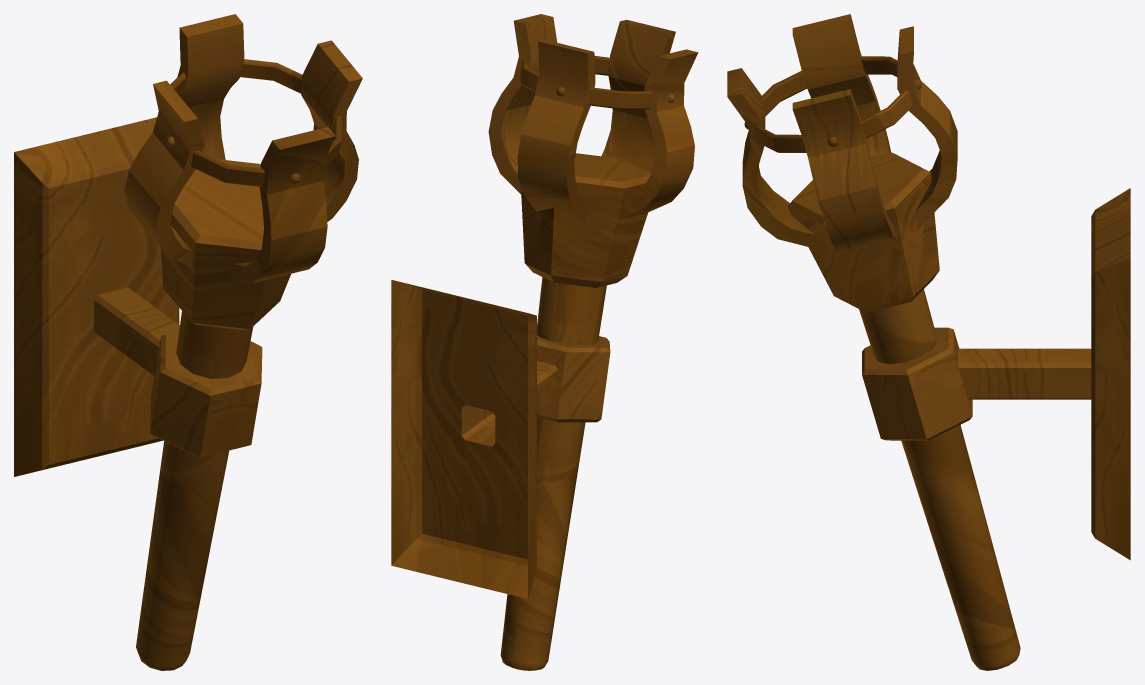
Rendered from Torch.fbx.
3 views of the same model, side by side, from view 1: azimuth 30°, elevation 25°; view 2: azimuth 150°, elevation 25°; view 3: azimuth 270°, elevation 25° (orthographic). The views are drawn at different scales.
Parts seen in each view (by area): view 1: Torch_low; view 2: Torch_low; view 3: Torch_low.
Part boxes in pixels (x1,y1,x2,y2): Torch_low: (14, 14, 362, 670); Torch_low: (391, 14, 698, 670); Torch_low: (727, 14, 1130, 670).
Bounding box in the file's own units: 2.73 × 8.75 × 5.1.
